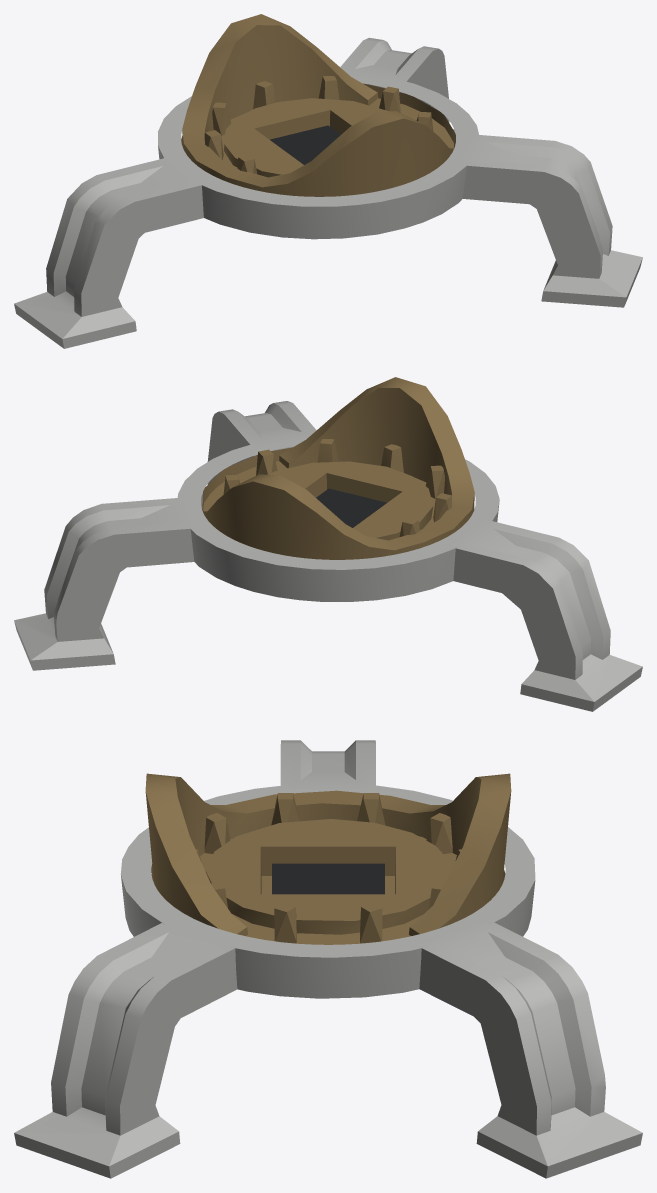
File: stack-inserter-west.glb
The picture shows the model from 3 angles, top to bottom: view 1: azimuth 30°, elevation 25°; view 2: azimuth 150°, elevation 25°; view 3: azimuth 270°, elevation 25°; orthographic projection. The views are drawn at different scales.
Visible parts, largest first — view 1: body; view 2: body; view 3: body.
Part boxes in pixels (x1,y1,x2,y2): body: (14,14,642,348); body: (14,377,642,711); body: (14,740,642,1178).
Bounding box in the file's own units: 1.15 × 0.4117 × 0.938.
